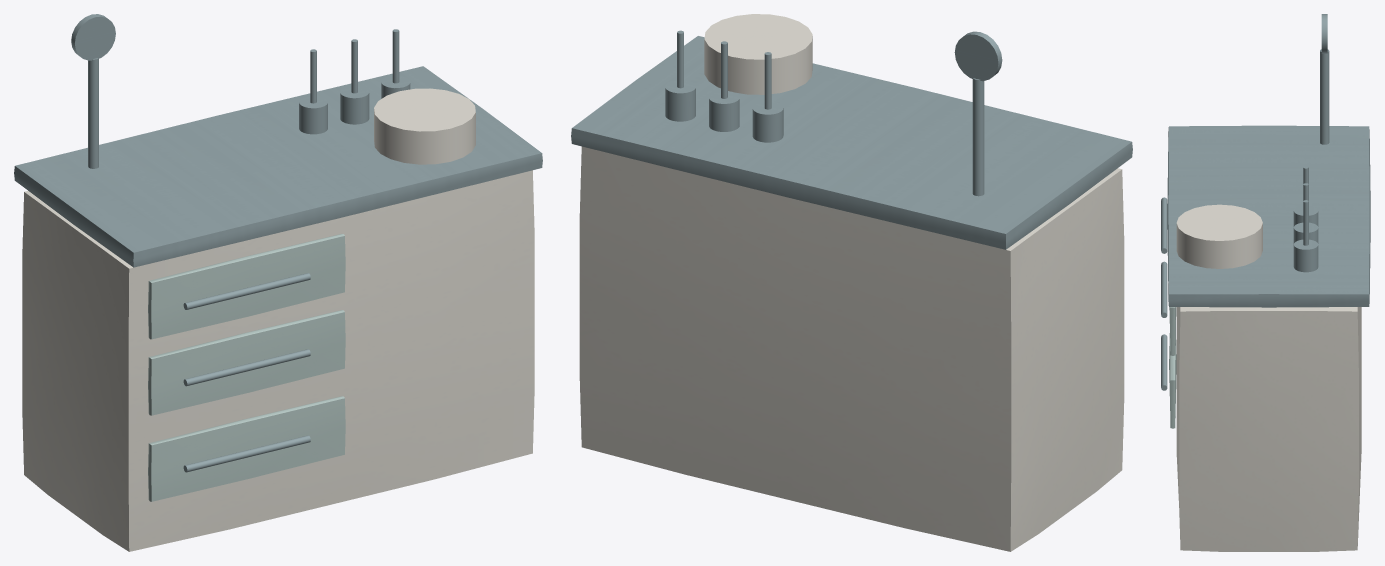
The model's file is ent-console.glb.
The picture shows the model from 3 angles, left to right: view 1: azimuth 30°, elevation 25°; view 2: azimuth 150°, elevation 25°; view 3: azimuth 270°, elevation 25°; orthographic projection. The views are drawn at different scales.
Visible parts, largest first — view 1: ent-console; view 2: ent-console; view 3: ent-console.
Part boxes in pixels (x1,y1,x2,y2): ent-console: (14, 14, 542, 551); ent-console: (571, 14, 1132, 551); ent-console: (1161, 14, 1370, 551).
Size of the model in its own units: 1.3 by 1.4 by 0.68.
Materials: 17 (17 with a texture image).
